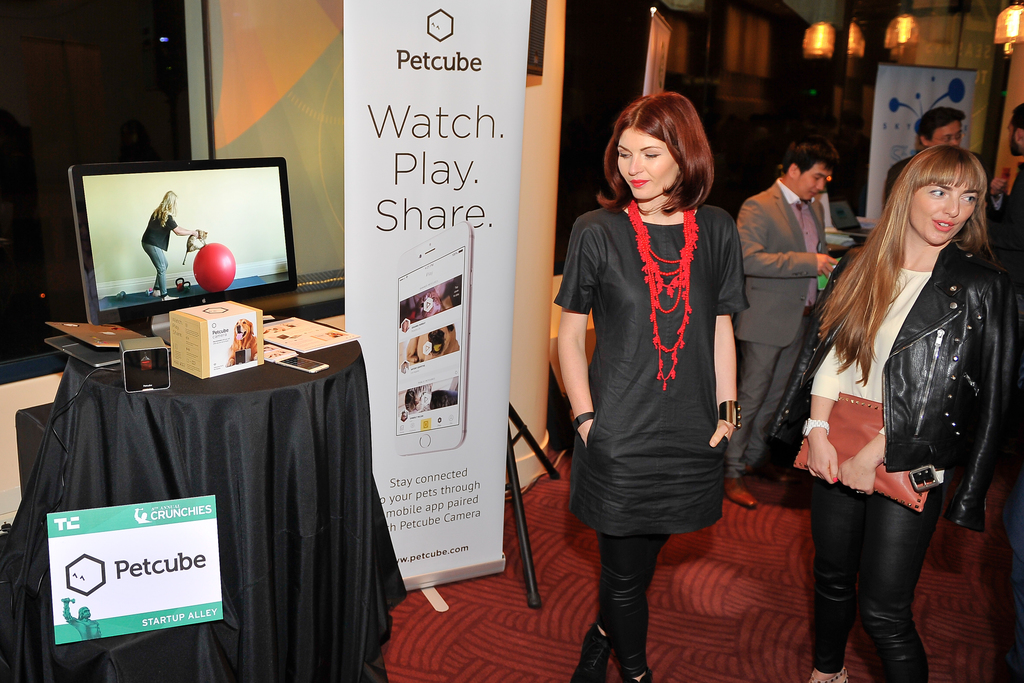Human-face: (614, 129, 679, 198), (913, 185, 977, 245), (799, 163, 833, 201), (932, 122, 960, 147)
